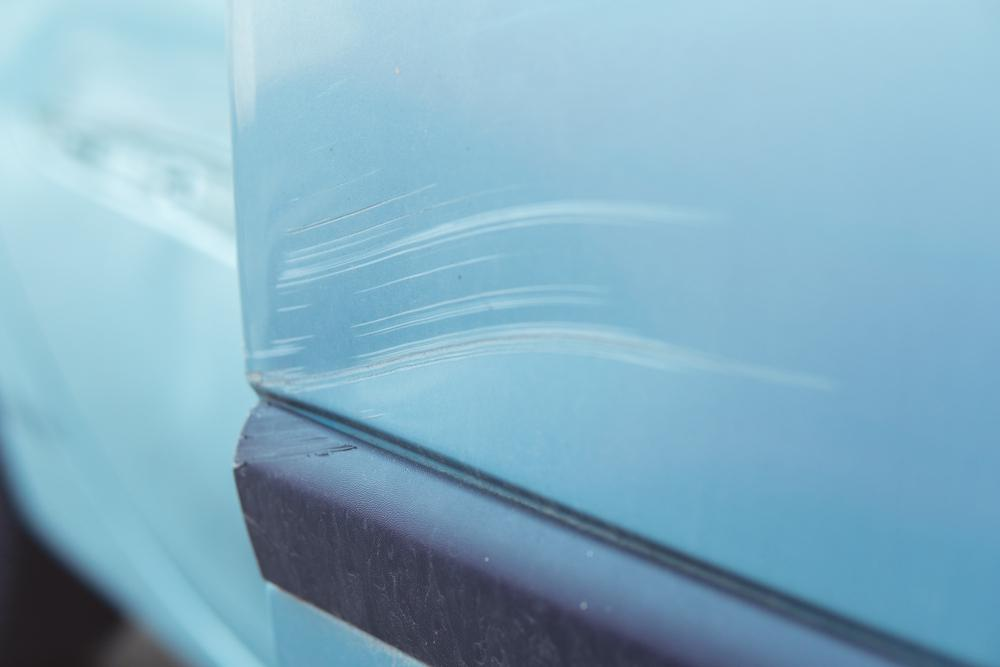scratch: (254, 182, 830, 396)
